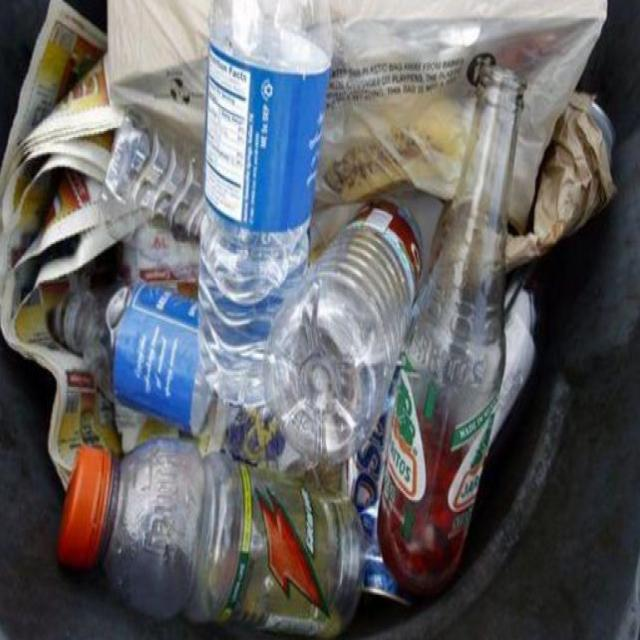paper: (3, 8, 116, 295), (528, 92, 626, 272)
plastic: (150, 0, 352, 360), (50, 423, 363, 640), (355, 0, 467, 189)
